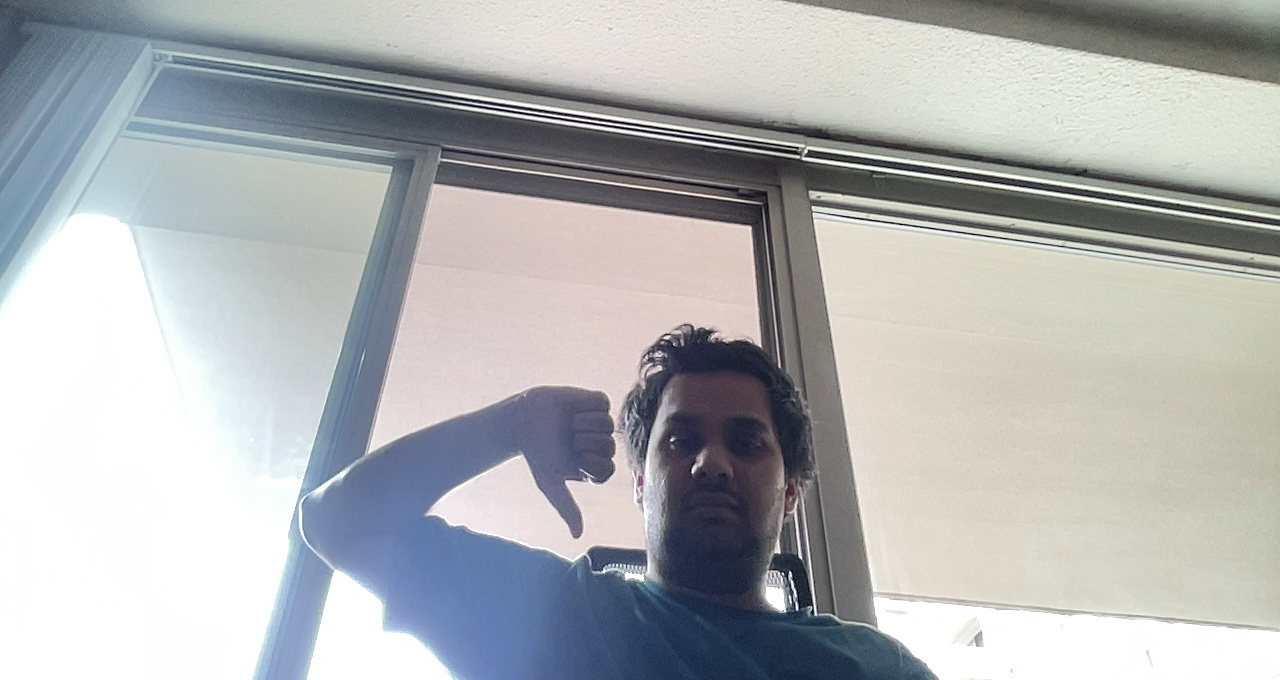thumbsdown: (504, 380, 613, 532)
